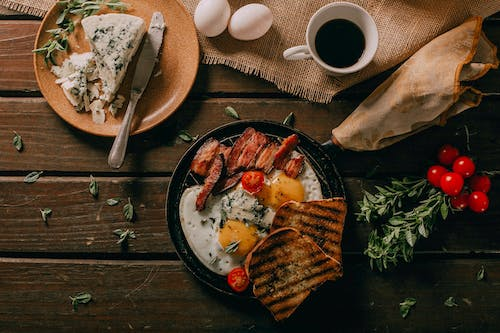knife: (109, 8, 167, 168)
